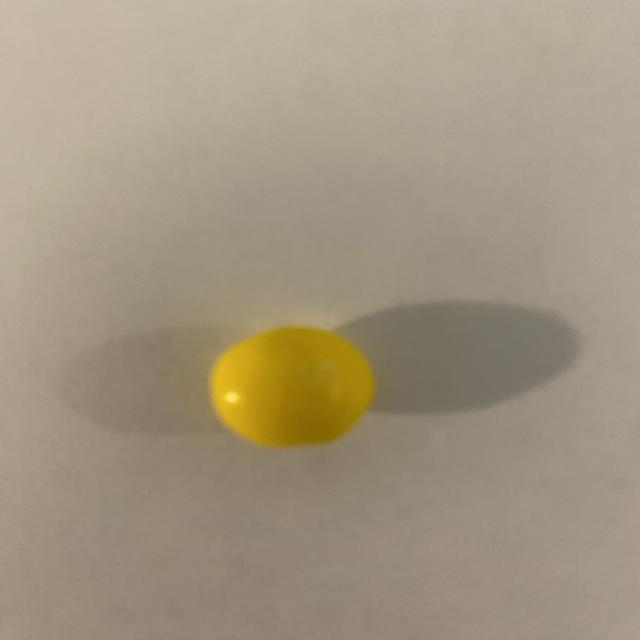smartie: (211, 327, 374, 446)
